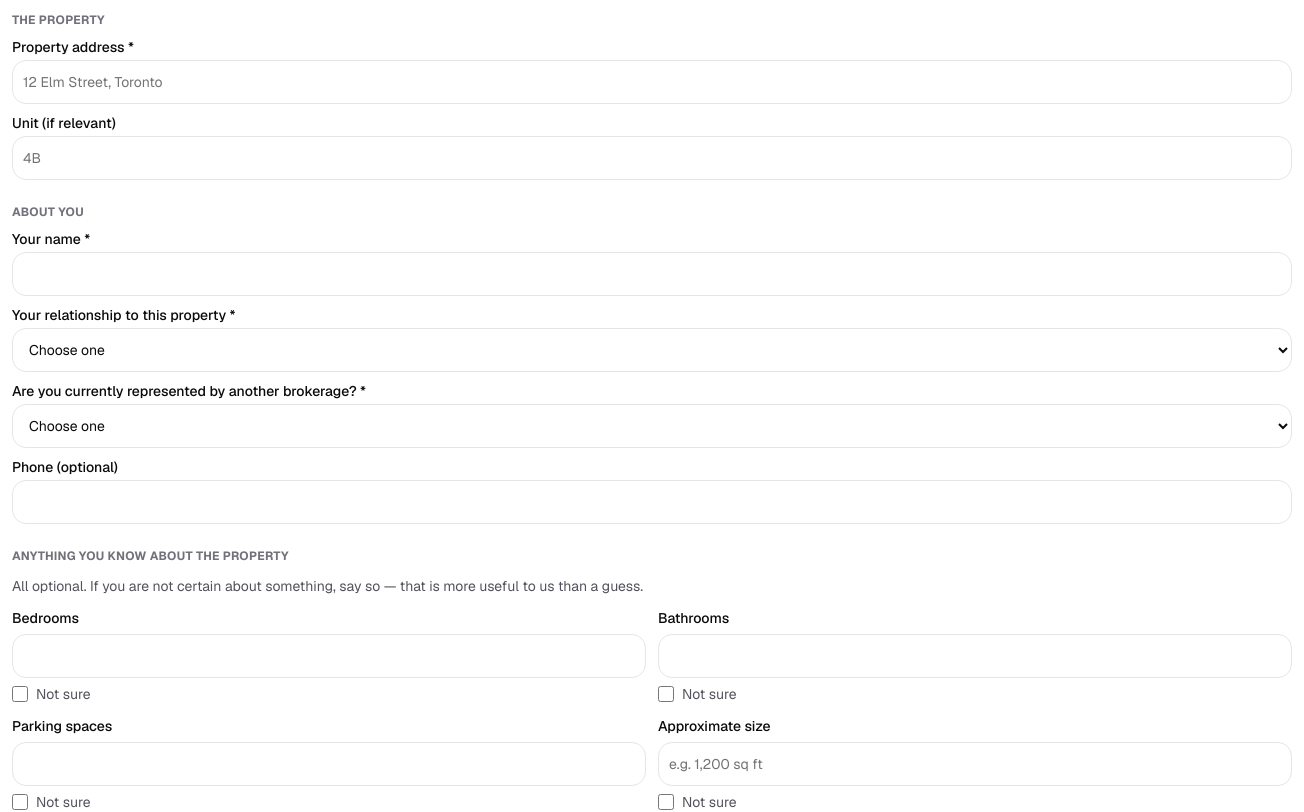
Test case: "Not sure" clears and disables the field rather than leaving a value
The image size is (1304, 812).
Type "3" into the field labelled "Bedrooms" at (329, 656), box [12,634,646,678]
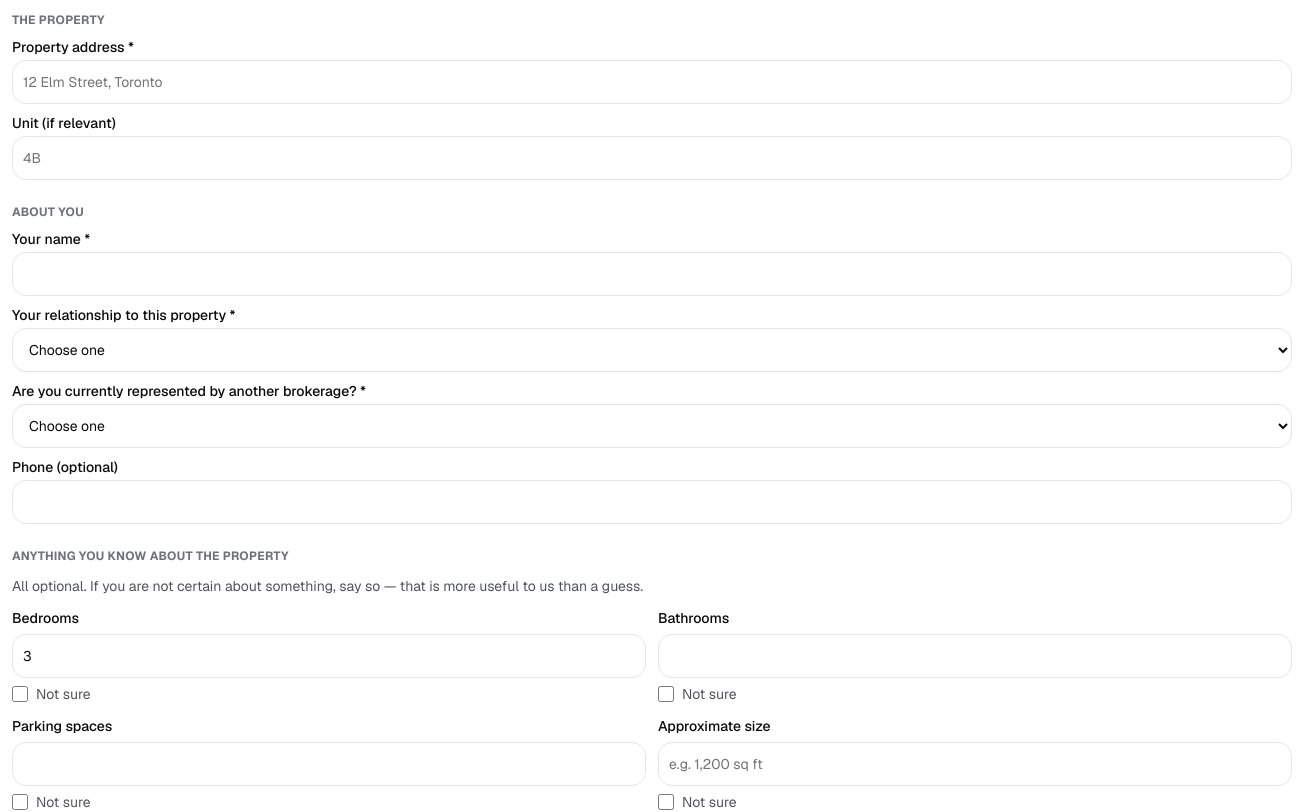
Click the checkbox named "Not sure about bedrooms" at (20, 694), box [12,686,28,702]
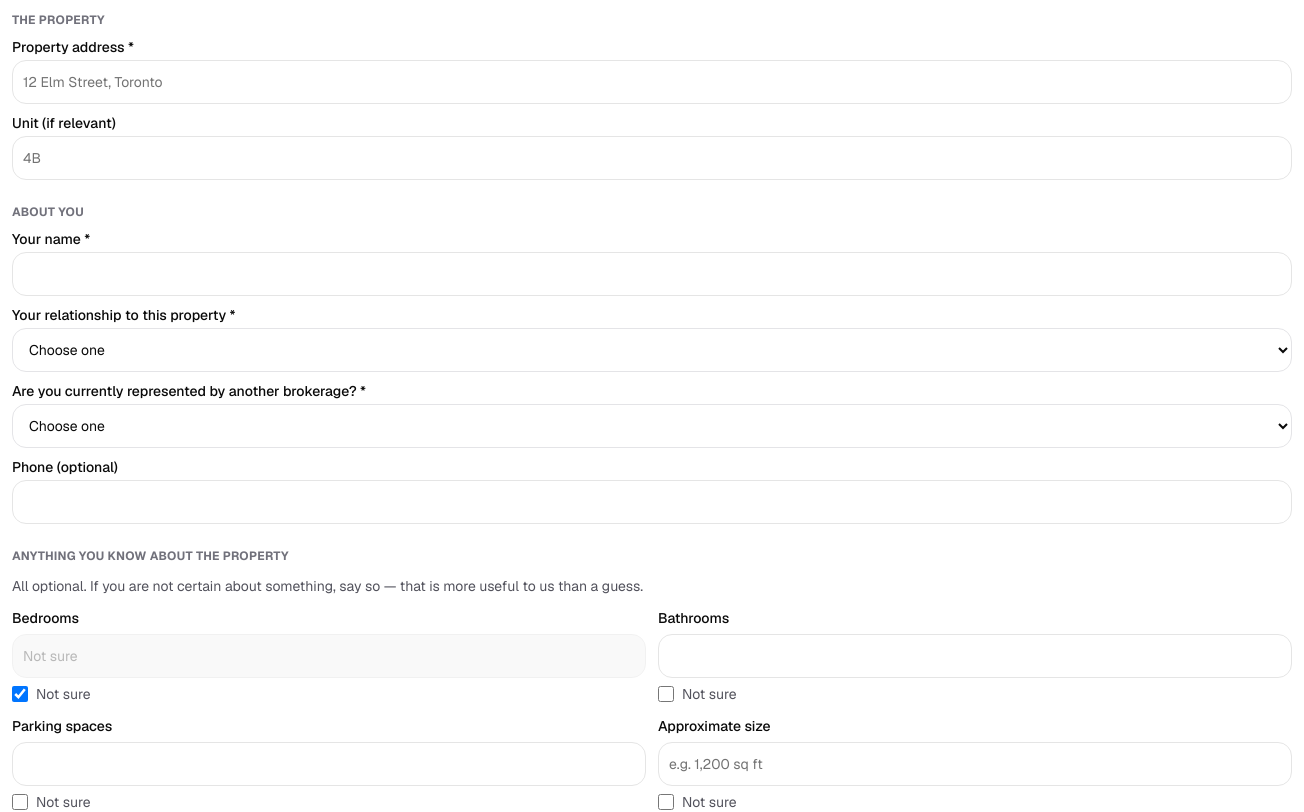
Expected: the field labelled "Bedrooms" is empty, [12,634,646,678]
Expected: the field labelled "Bedrooms" is disabled, [12,634,646,678]
